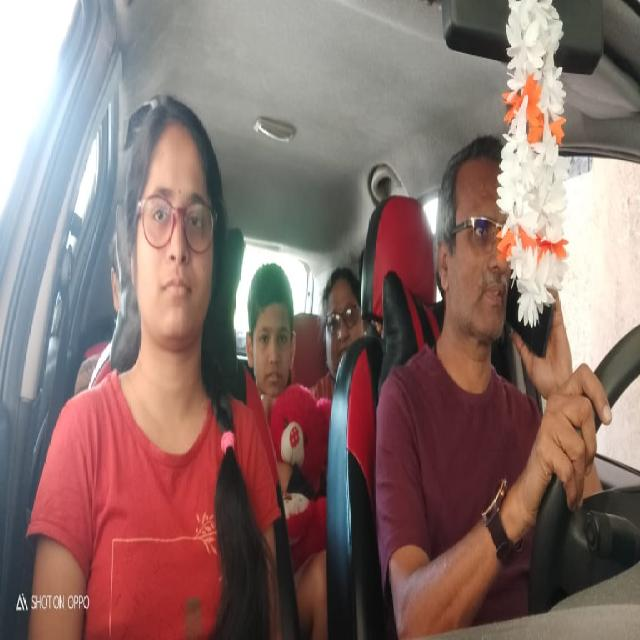mobile: (507, 272, 555, 365)
person: (127, 98, 223, 372), (435, 126, 509, 371), (245, 256, 300, 402), (321, 264, 366, 388)
